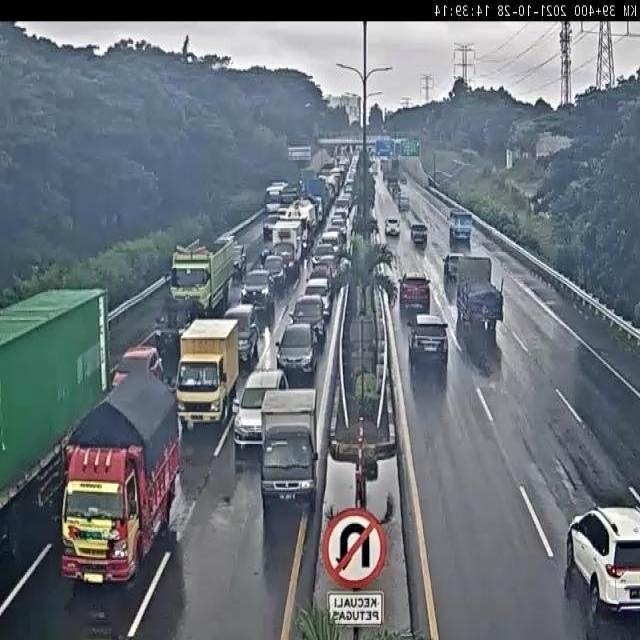Bus: (262, 178, 288, 214)
Car: (236, 368, 287, 443), (403, 313, 455, 377), (275, 322, 317, 377), (115, 339, 161, 387), (392, 272, 437, 317), (225, 307, 260, 357), (290, 295, 326, 338), (241, 272, 272, 306), (304, 275, 332, 307), (409, 219, 434, 253), (262, 255, 286, 290), (379, 218, 404, 242), (394, 193, 415, 214)
Truck: (62, 389, 194, 593), (0, 290, 110, 533), (256, 389, 322, 516), (174, 315, 243, 431), (169, 230, 245, 320), (452, 250, 506, 337), (268, 219, 307, 269), (444, 209, 480, 243)
